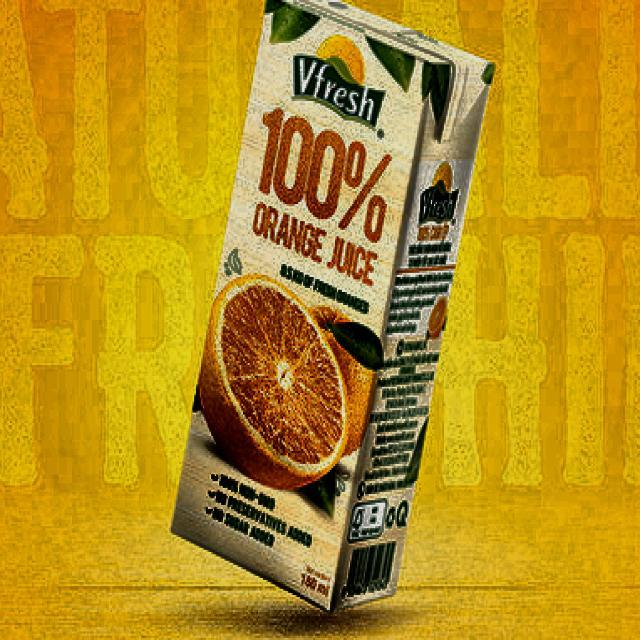cardboard: (169, 0, 494, 612)
